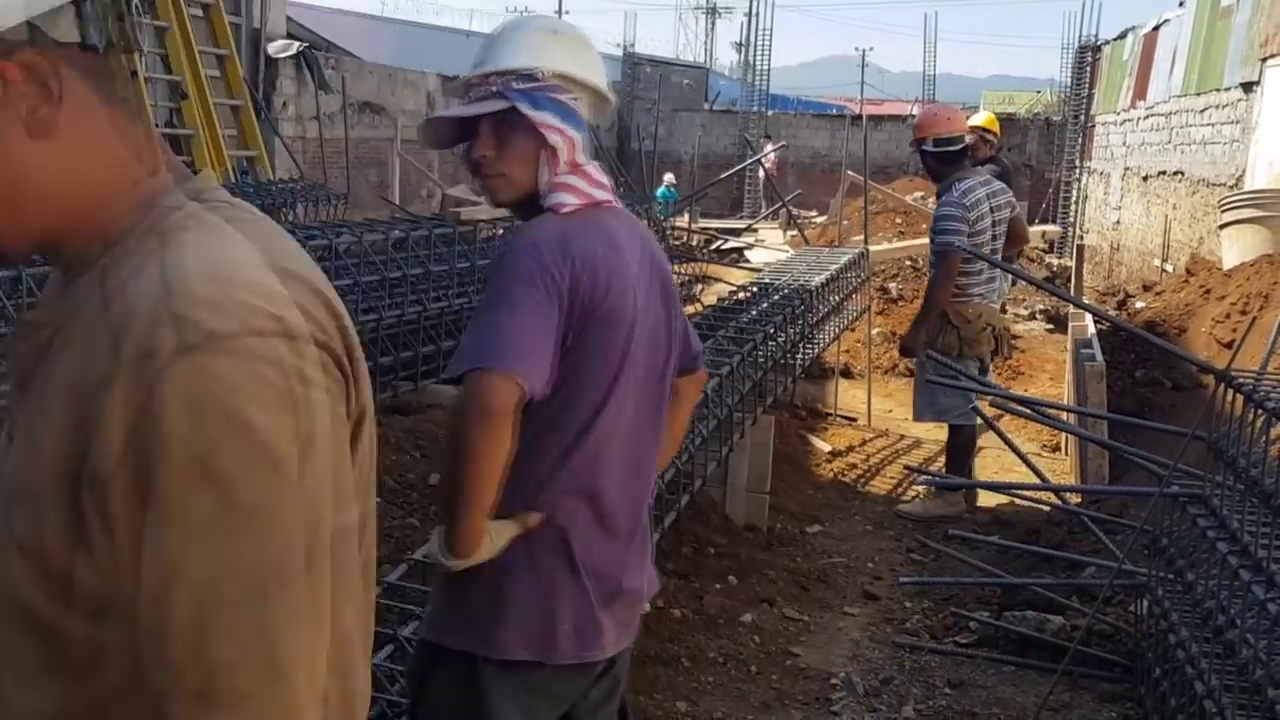helmet: (445, 10, 618, 122), (906, 104, 970, 151), (966, 110, 1001, 140), (663, 173, 677, 185)
helmet-off: (0, 0, 199, 278), (759, 133, 773, 148)
helmet-on: (421, 12, 618, 214), (906, 102, 972, 185), (966, 109, 1001, 165), (662, 171, 677, 190)
person: (2, 3, 382, 714), (420, 9, 711, 584), (898, 102, 1032, 517), (967, 104, 1017, 192), (760, 132, 778, 223), (657, 171, 678, 203)
